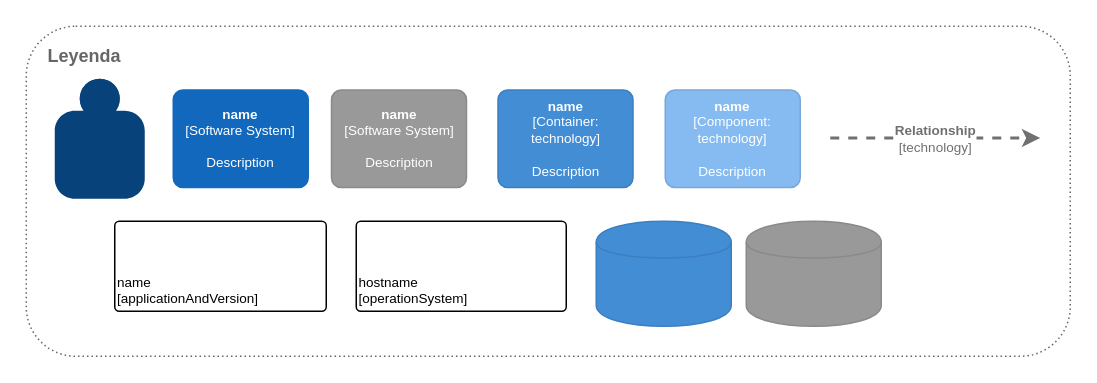
Image size: 1097x383. Some labels were removed from this diagram. The centre of each missing label's shape, as x and y in pixels:
Database [Container: Technology] Description: (663,273)
Database [Container: Technology] External: (813,273)
name [Person] Description: (99,138)
